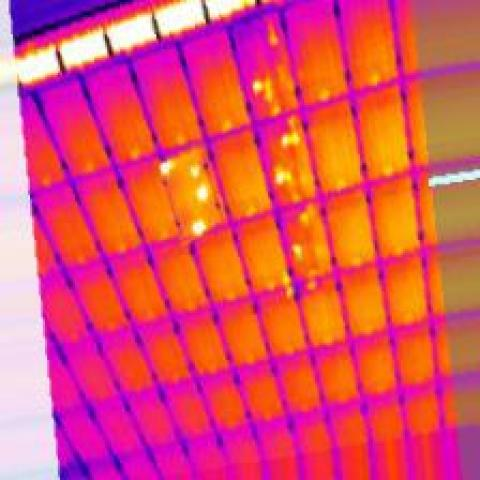fault: (274, 165, 294, 191), (298, 204, 317, 229), (279, 131, 300, 150), (158, 159, 176, 180), (195, 182, 210, 204), (290, 242, 306, 262), (191, 218, 208, 236), (186, 161, 204, 178), (266, 28, 280, 49), (278, 272, 294, 289), (317, 88, 332, 103), (253, 75, 263, 92)
